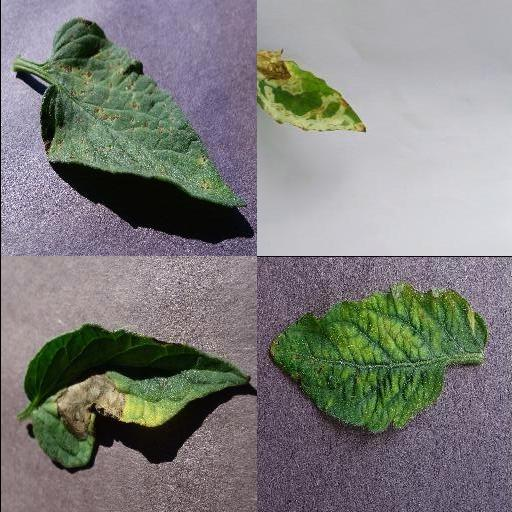Early Blight: (22, 324, 250, 470)
Leaf Miner: (256, 47, 371, 134)
Mosaic Virus: (265, 285, 489, 434)
Septoria: (39, 17, 247, 208)
